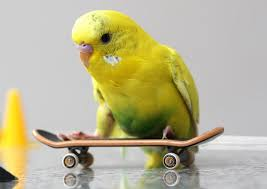budgie: (71, 8, 200, 166)
